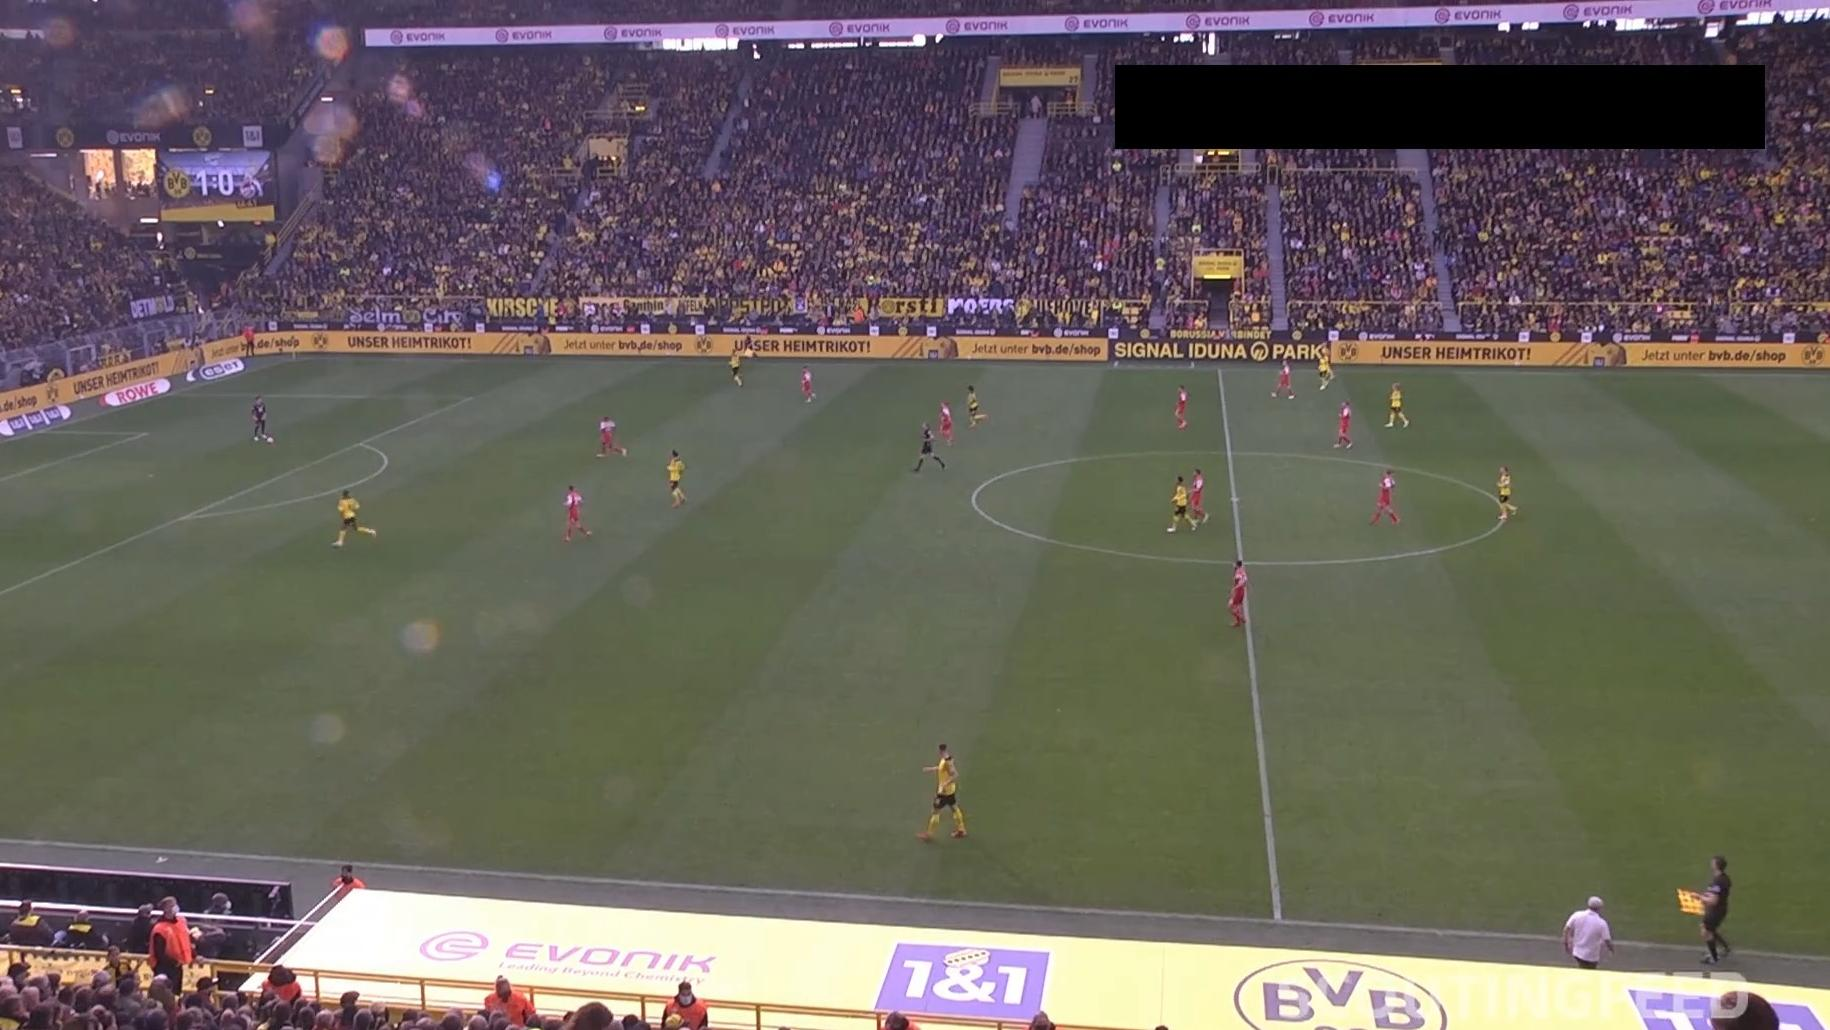ball: (265, 435, 275, 445)
